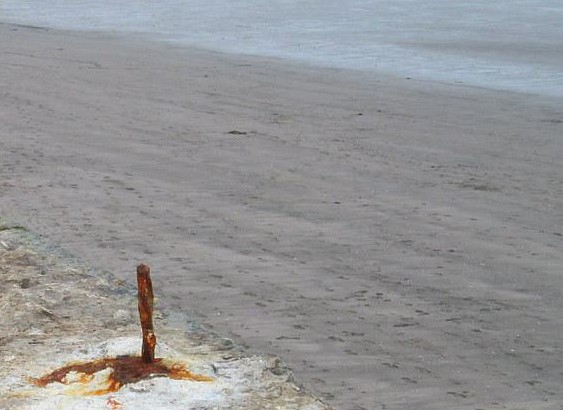Corrosion: (19, 355, 217, 395)
Exposed reinforcement: (136, 264, 157, 362)
